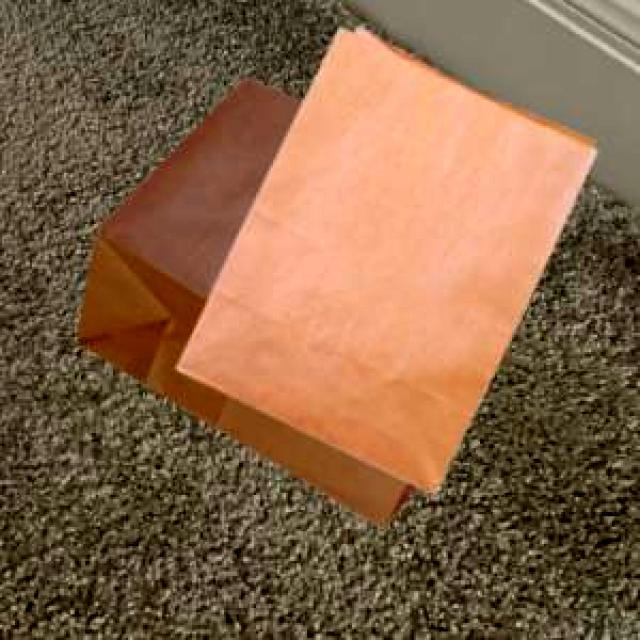Paper_Bag: (173, 24, 594, 490), (72, 74, 414, 524)
